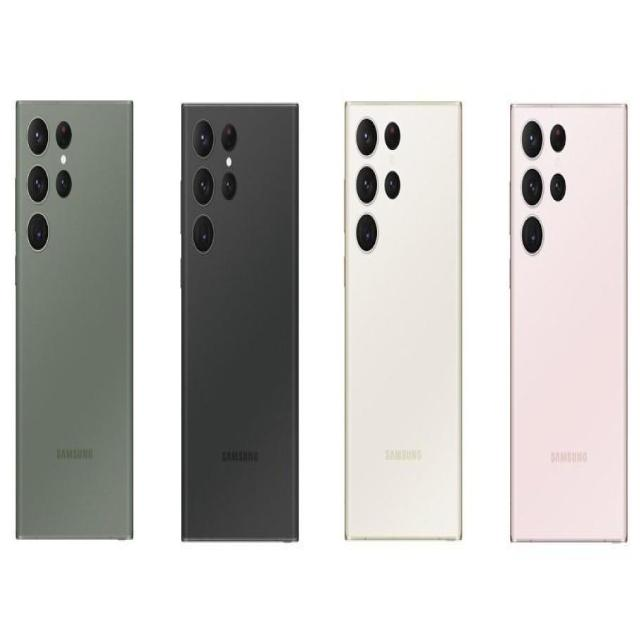mobile-phone: (15, 94, 136, 548), (181, 102, 300, 548), (510, 103, 629, 545), (346, 103, 464, 545)
